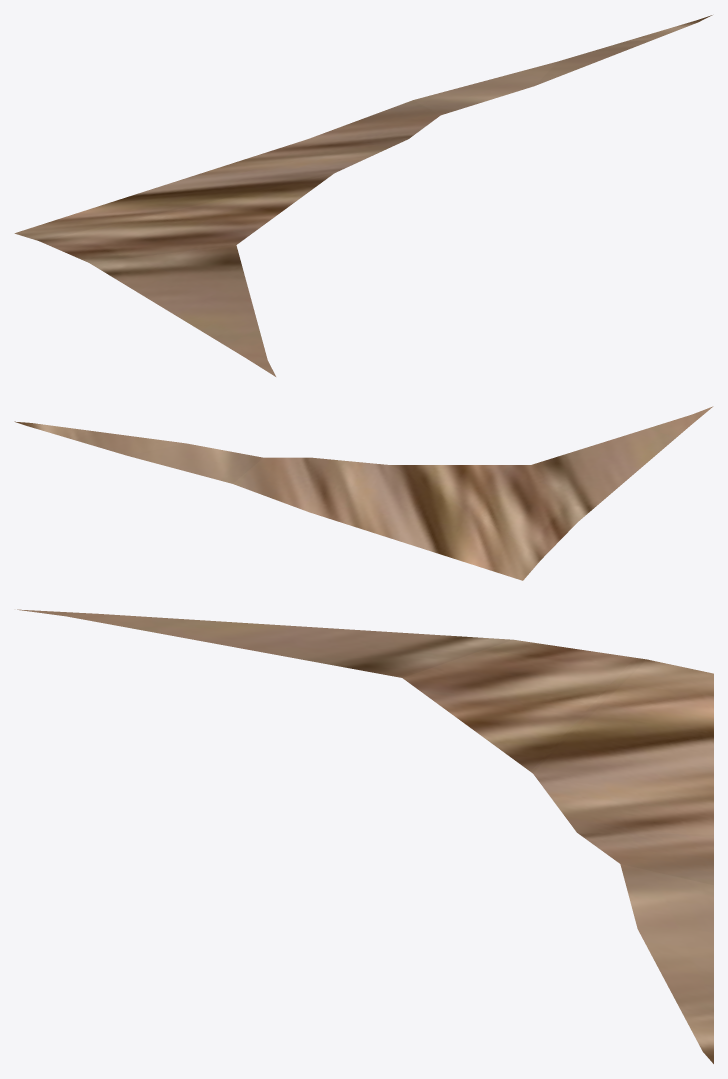
The picture shows the model from 3 angles, top to bottom: view 1: azimuth 30°, elevation 25°; view 2: azimuth 150°, elevation 25°; view 3: azimuth 270°, elevation 25°; orthographic projection. The views are drawn at different scales.
Bounding box in the file's own units: 1.07 × 0.0703 × 0.6943.
Materials: 1 (1 with a texture image).
